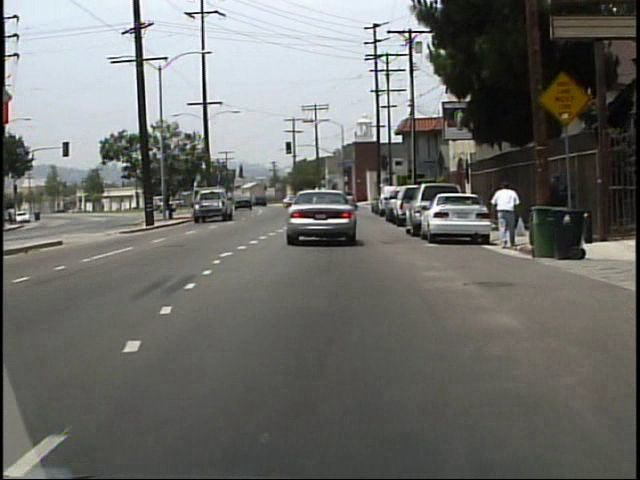person: (491, 179, 523, 252)
